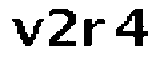2: (45, 6, 78, 48)
4: (113, 7, 151, 48)
r: (82, 17, 107, 48)
v: (8, 18, 43, 49)
